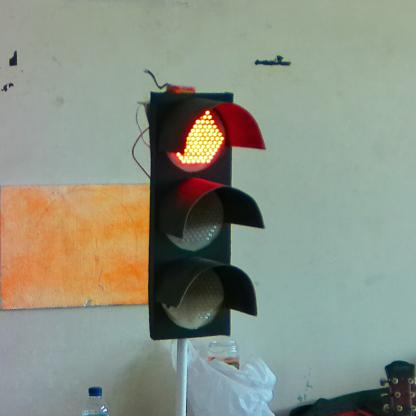red: (148, 91, 260, 338)
